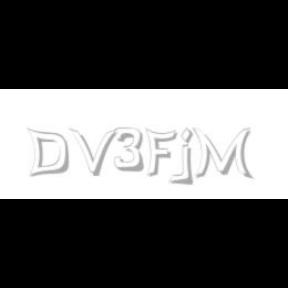3: (114, 128, 146, 172)
D: (26, 128, 70, 178)
F: (145, 128, 177, 178)
M: (192, 128, 252, 180)
V: (69, 128, 117, 176)
j: (178, 128, 207, 186)
